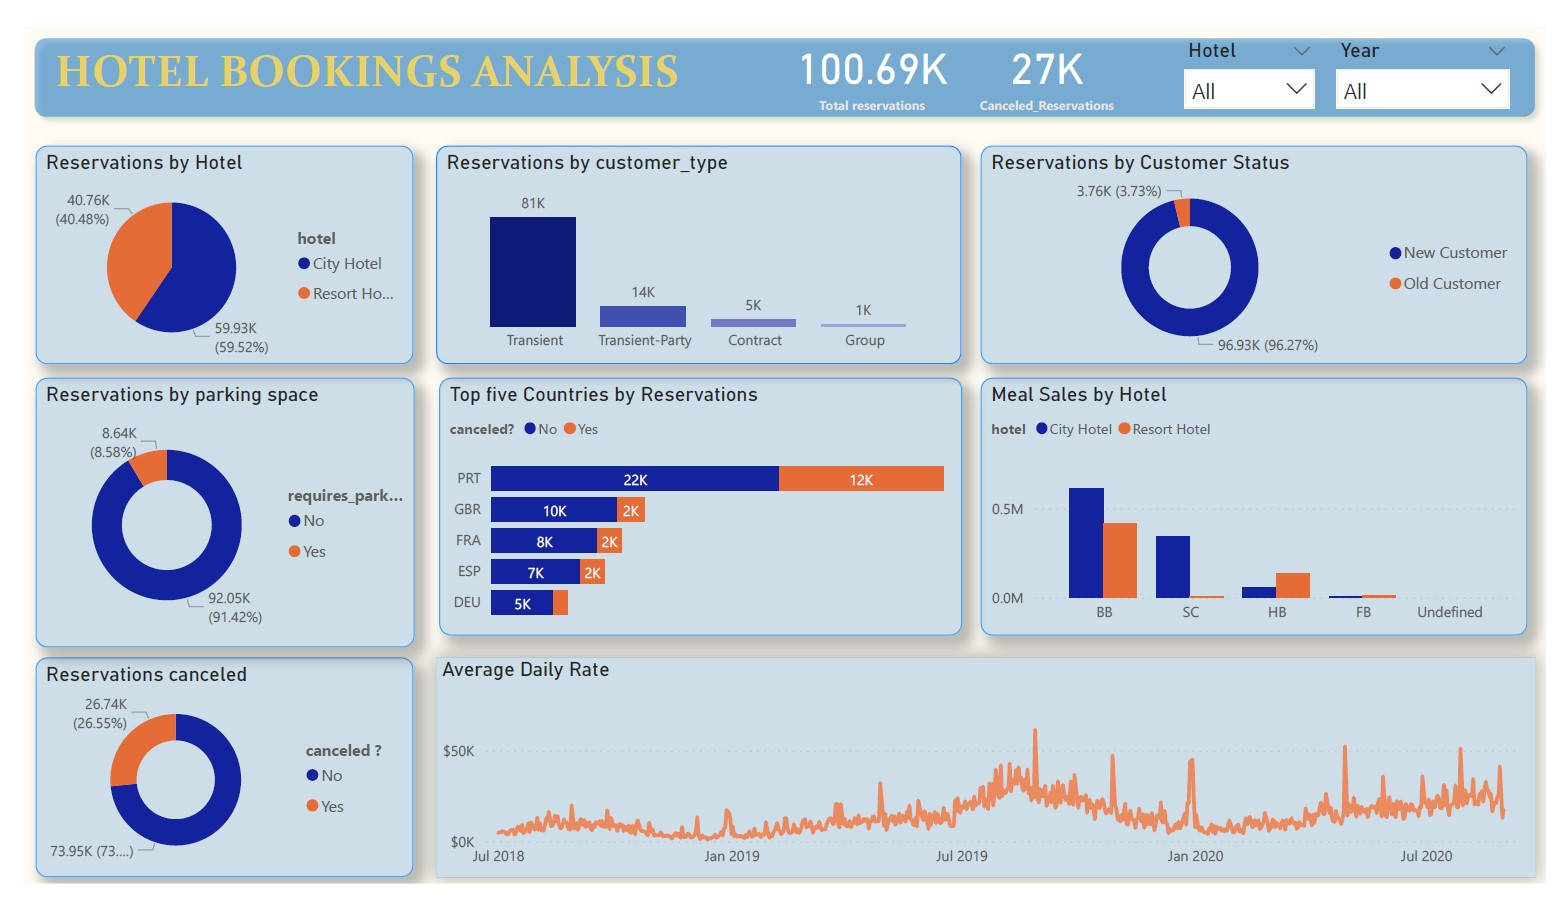

This screenshot's page, from the dashboard's own definition file:
{"tool":"powerbi","page":{"name":"Page 1","canvas":[1280,720],"ordinal":0},"visuals":[{"type":"shape","box":[0,0,1280,83.7],"z":0},{"type":"textbox","box":[20.7,8.6,540.8,68.1],"z":1000},{"type":"slicer","fields":{"Values":["Sheet1 (2).arrival_year"]},"box":[1094.6,4.1,164.8,68.7],"z":2000},{"type":"card","fields":{"Values":["CountNonNull(Sheet1 (2).reservation_status)"]},"box":[637.4,0,150.9,76.8],"z":3000},{"type":"slicer","fields":{"Values":["Sheet1 (2).hotel"]},"box":[966.9,4.1,127.7,68.7],"z":4000},{"type":"pieChart","title":"Reservations by Hotel","fields":{"Category":["Sheet1 (2).hotel"],"Y":["CountNonNull(Sheet1 (2).hotel)"]},"box":[9.5,99.2,318.3,183.7],"z":5000},{"type":"donutChart","title":"Reservations canceled","fields":{"Category":["Sheet1 (2).is_canceled"],"Y":["CountNonNull(Sheet1 (2).is_canceled)"]},"box":[9.5,529.6,318.3,184.6],"z":6000},{"type":"barChart","title":"Top five Countries by Reservations","fields":{"Category":["Sheet1 (2).country"],"Y":["CountNonNull(Sheet1 (2).country)"],"Series":["Hotel Reservations.is_canceled"]},"box":[348.5,294.1,439.9,217.4],"z":7000},{"type":"clusteredColumnChart","title":"Reservations by customer_type","fields":{"Category":["Sheet1 (2).customer_type"],"Y":["CountNonNull(Sheet1 (2).customer_type)"]},"box":[345.9,99.2,442.5,183.7],"z":8000},{"type":"lineChart","title":"Average Daily Rate","fields":{"Category":["Sheet1 (2).arrival_date"],"Y":["Sum(Sheet1 (2).adr)"]},"box":[345.9,529.6,924.6,184.6],"z":9000},{"type":"donutChart","title":"Reservations by parking space","fields":{"Category":["Sheet1 (2).requires_parking_space"],"Y":["CountNonNull(Sheet1 (2).requires_parking_space)"]},"box":[9.5,294.1,319.1,226.8],"z":10000},{"type":"card","fields":{"Values":["Sheet1 (2).Canceled Reservations"]},"box":[798.7,0,123.3,76.8],"z":11000},{"type":"clusteredColumnChart","title":"Meal Sales by Hotel","fields":{"Category":["Sheet1 (2).meal"],"Y":["CountNonNull(Sheet1 (2).meal)"],"Series":["Sheet1 (2).hotel"]},"box":[803.9,294.1,459.7,217.4],"z":12000},{"type":"donutChart","title":"Reservations by Customer Status","fields":{"Category":["Sheet1 (2).is_repeated_guest"],"Y":["CountNonNull(Sheet1 (2).is_repeated_guest)"]},"box":[803.9,99.2,459.7,183.7],"z":13000}]}

Visuals, with their boxes in screenshot pixels (x1, y1, x2, y2), scaled from the page's 1280x720 canvas onto the 1564x901 screenshot:
shape: detection(0, 0, 1563, 105)
textbox: detection(25, 11, 686, 96)
slicer - Sheet1 (2).arrival_year: detection(1337, 5, 1539, 91)
card - CountNonNull(Sheet1 (2).reservation_status): detection(779, 0, 963, 96)
slicer - Sheet1 (2).hotel: detection(1181, 5, 1337, 91)
"Reservations by Hotel" pieChart: detection(12, 124, 401, 354)
"Reservations canceled" donutChart: detection(12, 663, 401, 894)
"Top five Countries by Reservations" barChart: detection(426, 368, 963, 640)
"Reservations by customer_type" clusteredColumnChart: detection(423, 124, 963, 354)
"Average Daily Rate" lineChart: detection(423, 663, 1552, 894)
"Reservations by parking space" donutChart: detection(12, 368, 402, 652)
card - Sheet1 (2).Canceled Reservations: detection(976, 0, 1127, 96)
"Meal Sales by Hotel" clusteredColumnChart: detection(982, 368, 1544, 640)
"Reservations by Customer Status" donutChart: detection(982, 124, 1544, 354)
